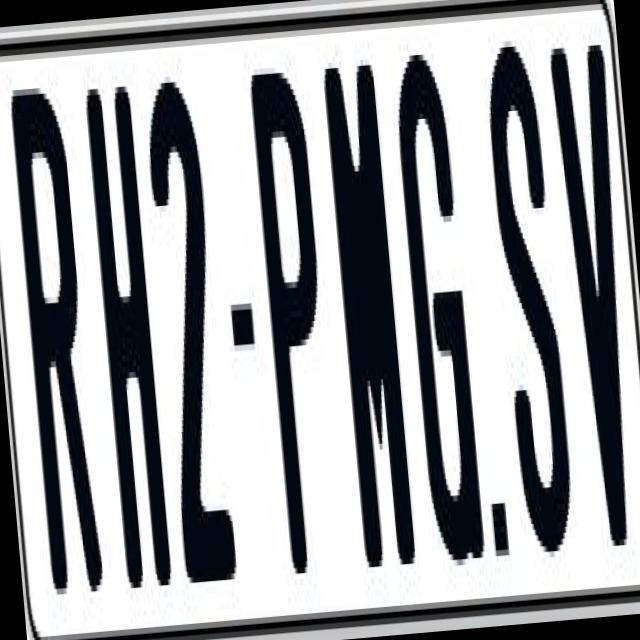2: (138, 80, 244, 618)
G: (388, 52, 492, 579)
H: (82, 68, 176, 600)
M: (321, 64, 418, 579)
P: (245, 52, 348, 556)
R: (6, 87, 100, 600)
S: (483, 45, 580, 588)
V: (545, 45, 635, 548)
